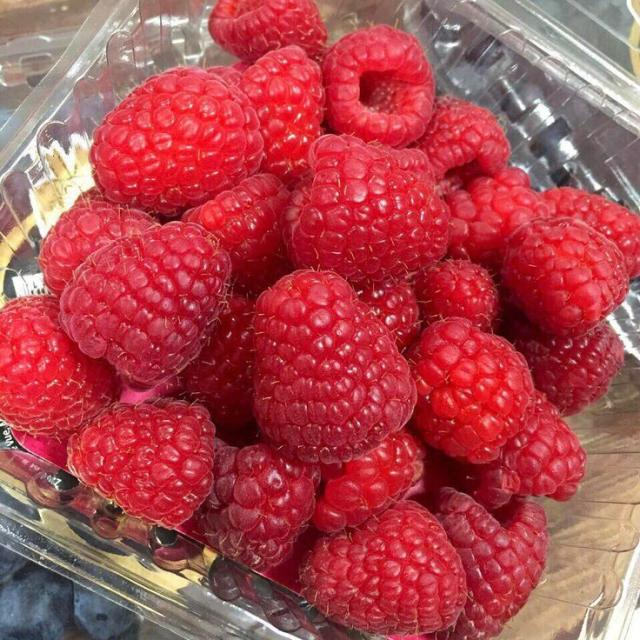raspberry: (254, 271, 415, 463), (60, 222, 230, 386), (91, 67, 263, 215), (286, 135, 449, 281), (301, 501, 466, 635), (68, 400, 214, 527), (411, 319, 533, 462), (435, 489, 548, 639), (0, 296, 118, 438), (199, 441, 319, 569), (502, 218, 628, 335), (470, 392, 586, 508), (323, 26, 434, 147), (183, 174, 292, 296), (504, 314, 624, 415), (239, 46, 324, 183), (39, 198, 154, 294), (314, 430, 423, 531), (446, 167, 550, 271), (182, 296, 255, 442), (501, 392, 586, 500), (542, 187, 639, 278), (418, 96, 510, 179), (209, 0, 326, 61), (414, 260, 499, 331), (355, 280, 420, 349), (450, 461, 519, 511), (407, 445, 460, 510), (280, 175, 313, 254), (381, 146, 435, 183), (437, 162, 485, 197), (207, 63, 246, 86)
